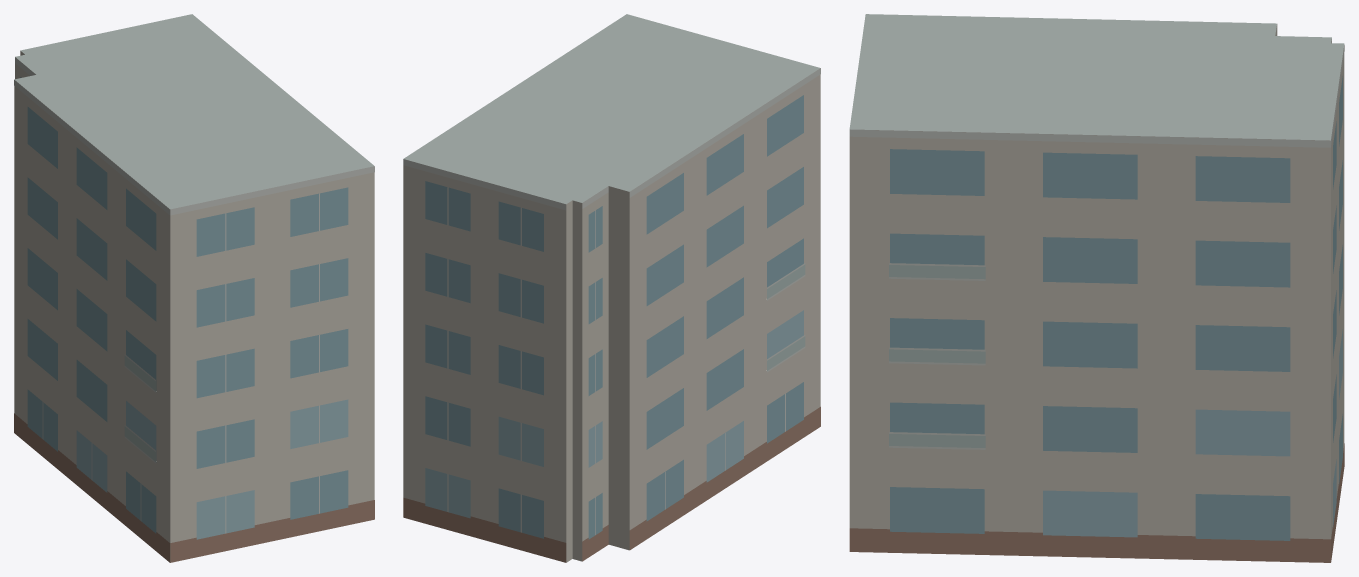
File: survey-upis-32552489.glb
3 views of the same model, side by side, from view 1: azimuth 30°, elevation 25°; view 2: azimuth 150°, elevation 25°; view 3: azimuth 270°, elevation 25° (orthographic). The views are drawn at different scales.
Parts seen in each view (by area): view 1: survey-upis-32552489.tmp; view 2: survey-upis-32552489.tmp; view 3: survey-upis-32552489.tmp.
Boxes of the visible parts, <box> form: survey-upis-32552489.tmp: <box>14,14,374,562</box>; survey-upis-32552489.tmp: <box>403,14,820,562</box>; survey-upis-32552489.tmp: <box>849,14,1344,562</box>.
Bounding box in the file's own units: 9.06 × 14.1 × 14.99.
